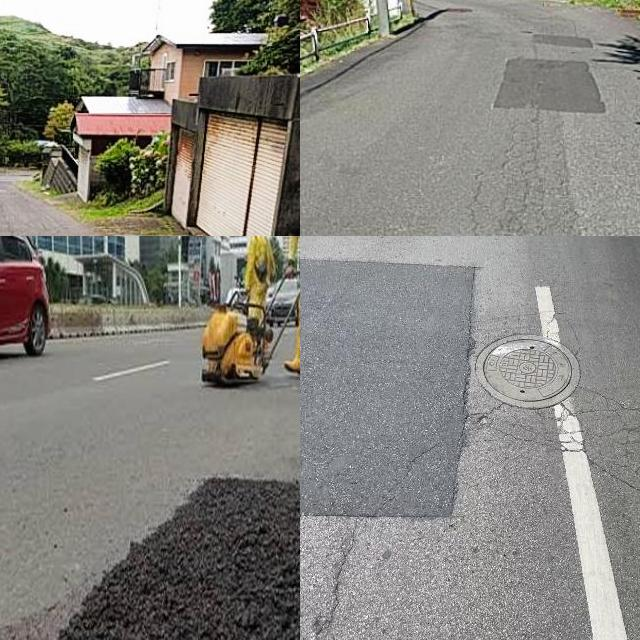Lubang: (478, 338, 582, 409)
Sambungan: (300, 255, 476, 522), (59, 476, 300, 640), (494, 58, 612, 114)
